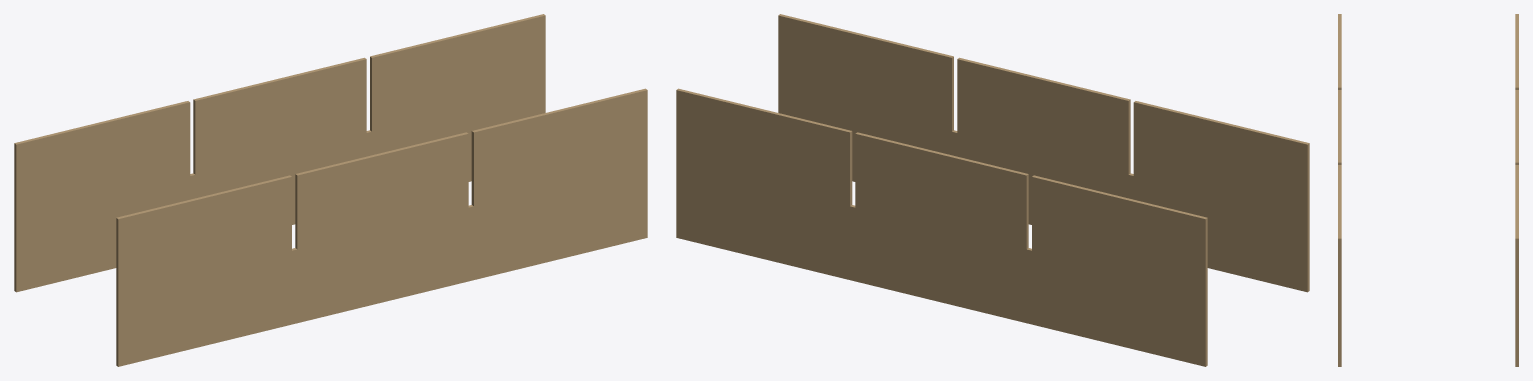
The model's file is paper.glb.
3 views of the same model, side by side, from view 1: azimuth 30°, elevation 25°; view 2: azimuth 150°, elevation 25°; view 3: azimuth 270°, elevation 25° (orthographic). The views are drawn at different scales.
Parts seen in each view (by area): view 1: LongSlottedBoard_1, LongSlottedBoard_-1; view 2: LongSlottedBoard_-1, LongSlottedBoard_1; view 3: LongSlottedBoard_-1, LongSlottedBoard_1.
Boxes of the visible parts, left/top/right/bottom form: LongSlottedBoard_1: left=116, top=88, right=647, bottom=366; LongSlottedBoard_-1: left=14, top=14, right=545, bottom=292; LongSlottedBoard_-1: left=676, top=88, right=1207, bottom=366; LongSlottedBoard_1: left=778, top=14, right=1309, bottom=292; LongSlottedBoard_-1: left=1515, top=14, right=1518, bottom=366; LongSlottedBoard_1: left=1338, top=14, right=1341, bottom=366.
Bounding box in the file's own units: 0.3 × 0.08 × 0.102.
